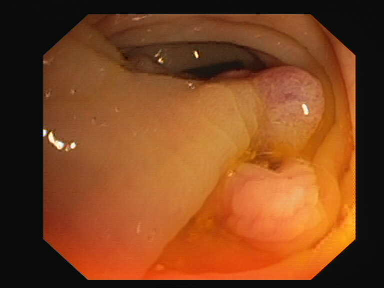polyp: (165, 47, 337, 224)
